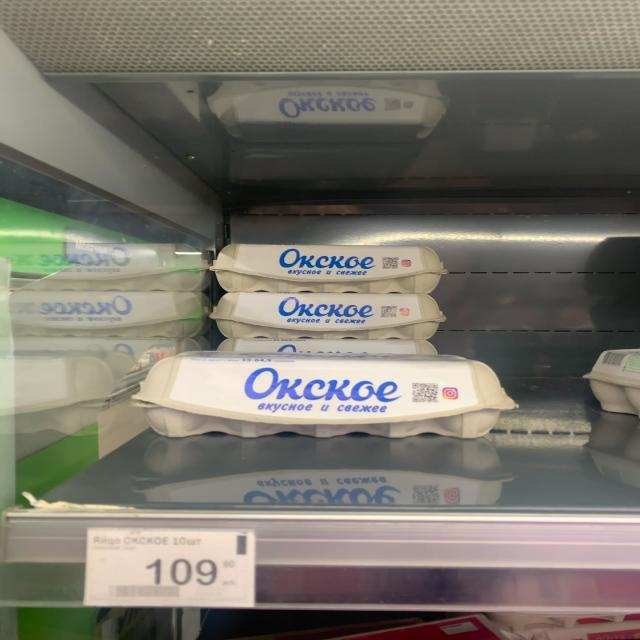egg box: (139, 360, 512, 435), (210, 244, 448, 292), (208, 290, 444, 338)
